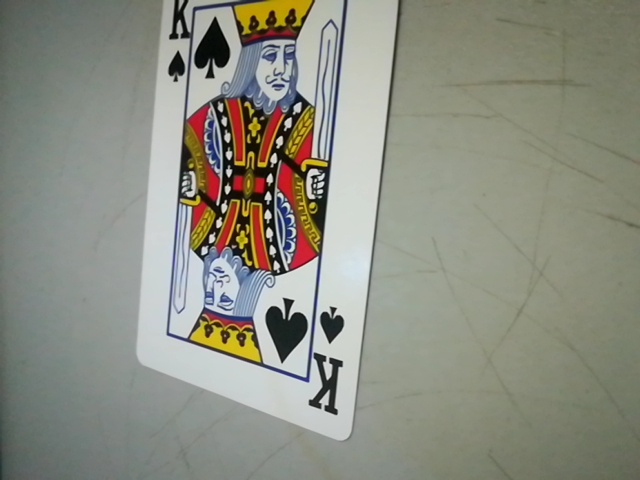ht k: (303, 292, 355, 430)
